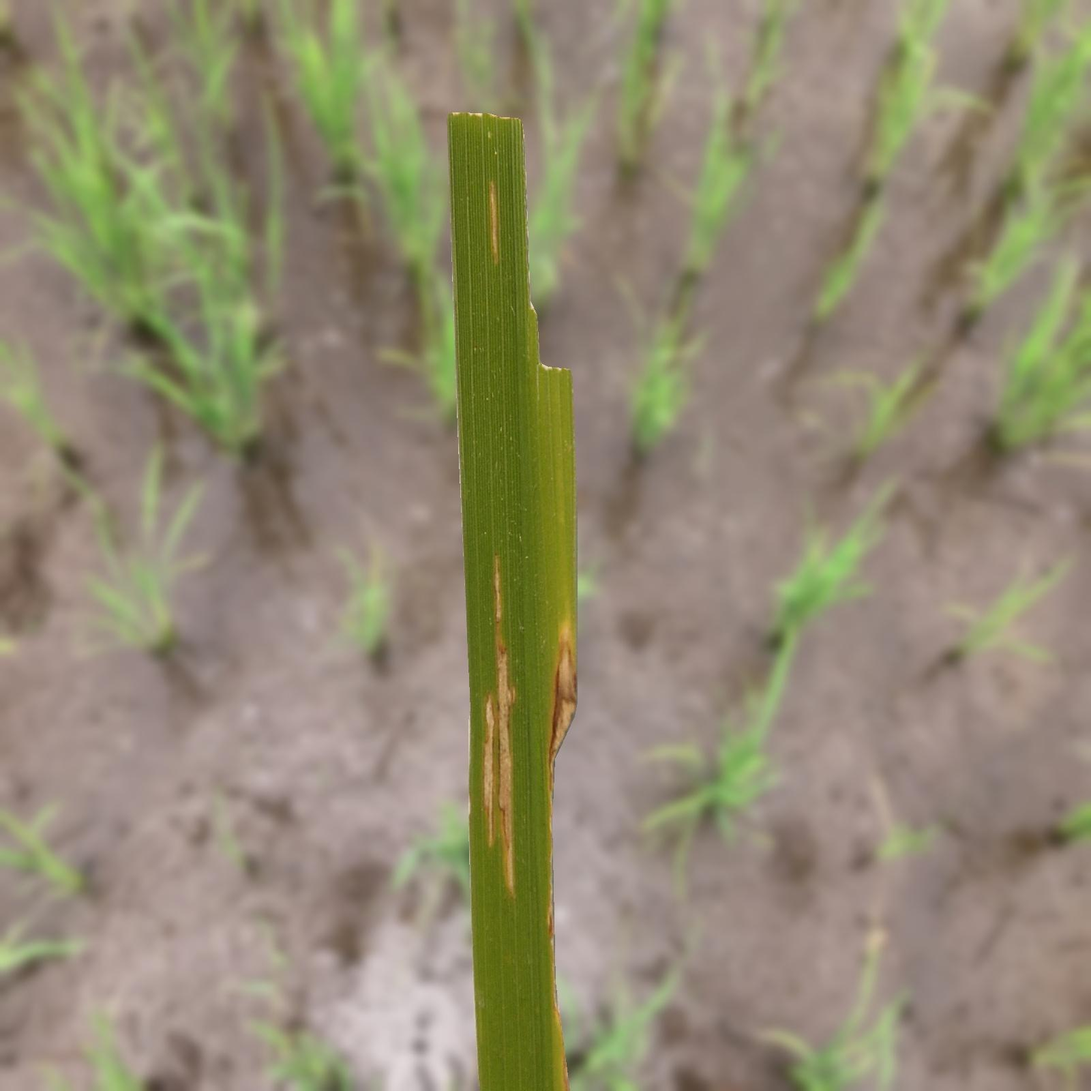BLS: (494, 555, 517, 900), (483, 693, 494, 845), (490, 181, 498, 263)
LEAF: (447, 113, 577, 1090)
